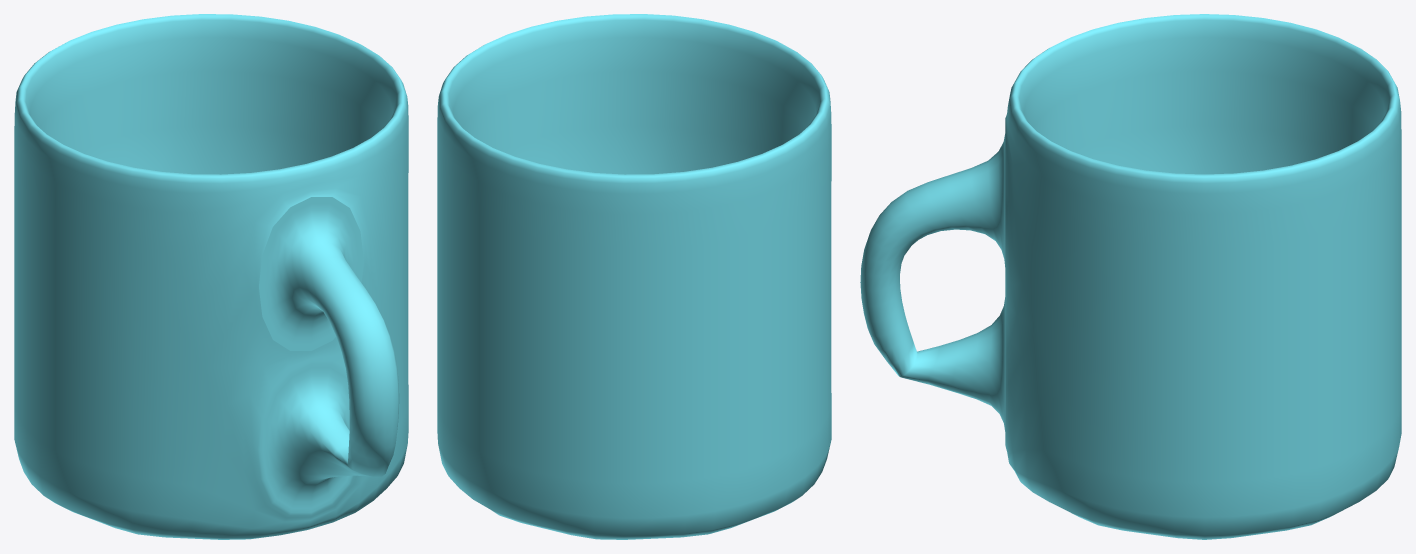
The model's file is mug.obj.
3 views of the same model, side by side, from view 1: azimuth 30°, elevation 25°; view 2: azimuth 150°, elevation 25°; view 3: azimuth 270°, elevation 25° (orthographic).
Visible parts, largest first — view 1: pCylinder1; view 2: pCylinder1; view 3: pCylinder1.
Part boxes in pixels (box(x1,y1,x2,y2)): pCylinder1: box(14, 14, 408, 539); pCylinder1: box(437, 14, 831, 539); pCylinder1: box(860, 14, 1401, 539).
Bounding box in the file's own units: 3.76 × 3.98 × 5.16.
